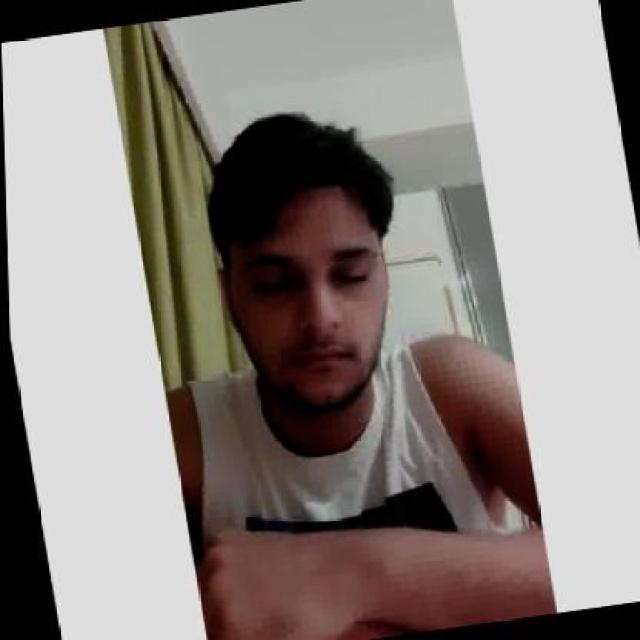inattentif: (188, 98, 412, 431)
